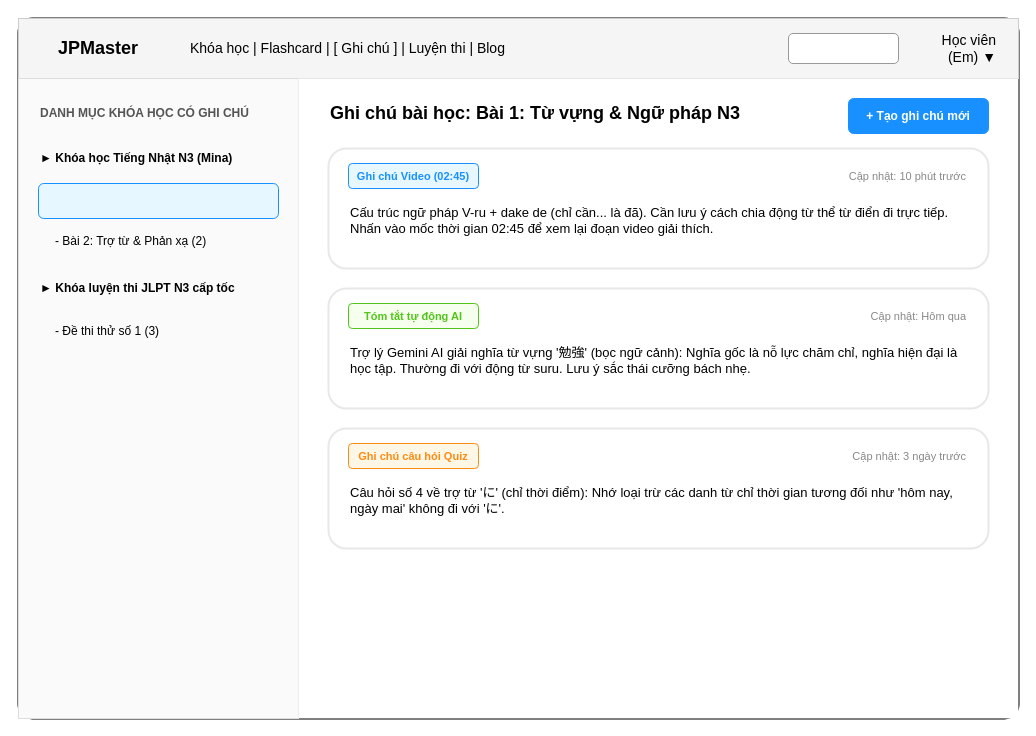
Some shapes in this 1036 by 736 pixel diagram are drawn without their labels. Each missing label, with the box of its shape:
- Bài 1: Từ vựng & Ngữ pháp (5): (38, 182, 278, 218)
Light/Dark ☼/☾: (788, 32, 898, 64)
